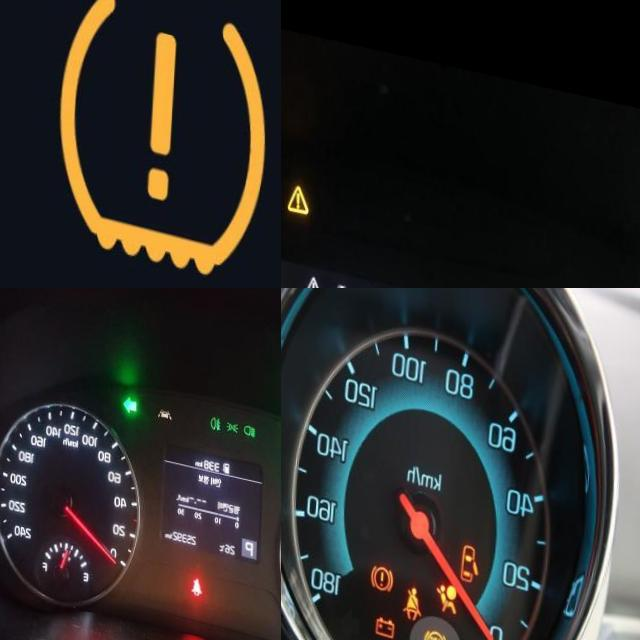Central Warning lamp: (288, 174, 312, 207)
Doors: (463, 525, 482, 568)
FrontFogLight: (212, 400, 223, 416)
LaneCenteringOff: (160, 395, 174, 408)
Low beam: (245, 407, 258, 421)
SideLamp: (228, 404, 241, 418)
